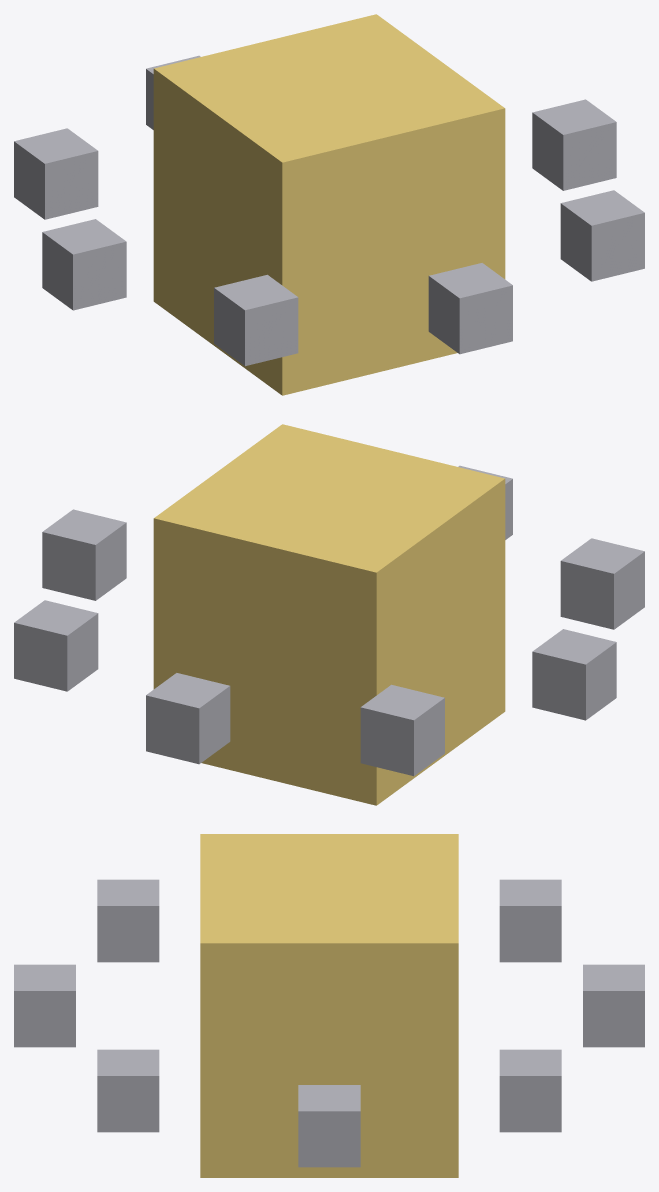
The model's file is instanced.glb.
3 views of the same model, one above another, from view 1: azimuth 30°, elevation 25°; view 2: azimuth 150°, elevation 25°; view 3: azimuth 270°, elevation 25° (orthographic).
Parts seen in each view (by area): view 1: Hub, rivet_1, rivet_3, rivet_5, rivet_0, rivet_2, rivet_4, rivet_6; view 2: Hub, rivet_3, rivet_5, rivet_7, rivet_0, rivet_4, rivet_6, rivet_2; view 3: Hub, rivet_1, rivet_3, rivet_5, rivet_7, rivet_0, rivet_2, rivet_6.
Part boxes in pixels (x1,y1,x2,y2): Hub: (153,14,505,395); rivet_1: (560,190,644,281); rivet_3: (214,274,298,366); rivet_5: (14,128,98,219); rivet_0: (532,99,616,190); rivet_2: (428,263,512,354); rivet_4: (42,219,126,310); rivet_6: (146,55,200,129); Hub: (153,424,505,805); rivet_3: (560,538,644,629); rivet_5: (360,684,444,776); rivet_7: (14,600,98,691); rivet_0: (42,509,126,600); rivet_4: (532,629,616,720); rivet_6: (146,673,230,764); rivet_2: (458,465,512,539); Hub: (200,834,458,1177); rivet_1: (97,1049,159,1132); rivet_3: (97,879,159,962); rivet_5: (499,879,561,962); rivet_7: (499,1049,561,1132); rivet_0: (298,1085,360,1167); rivet_2: (14,964,75,1047); rivet_6: (583,964,644,1047).
Size of the model in its own units: 2.44 by 1 by 2.44.
